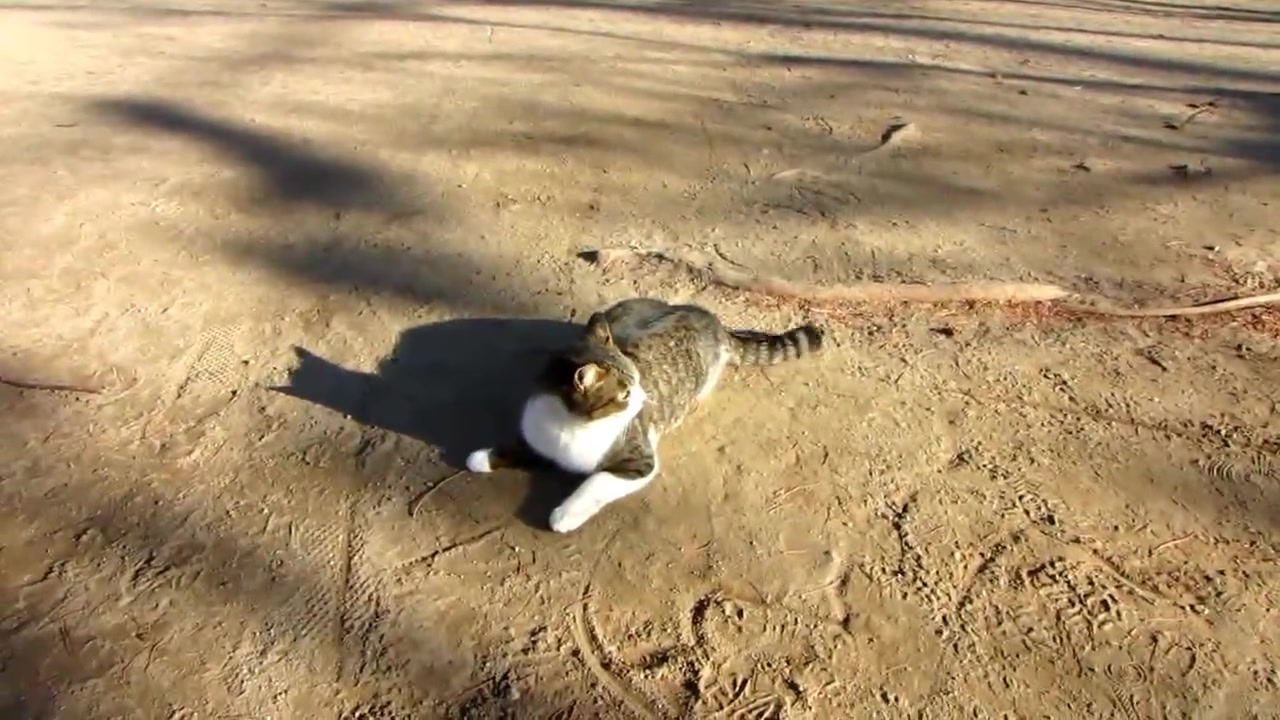cat: (463, 295, 827, 538)
